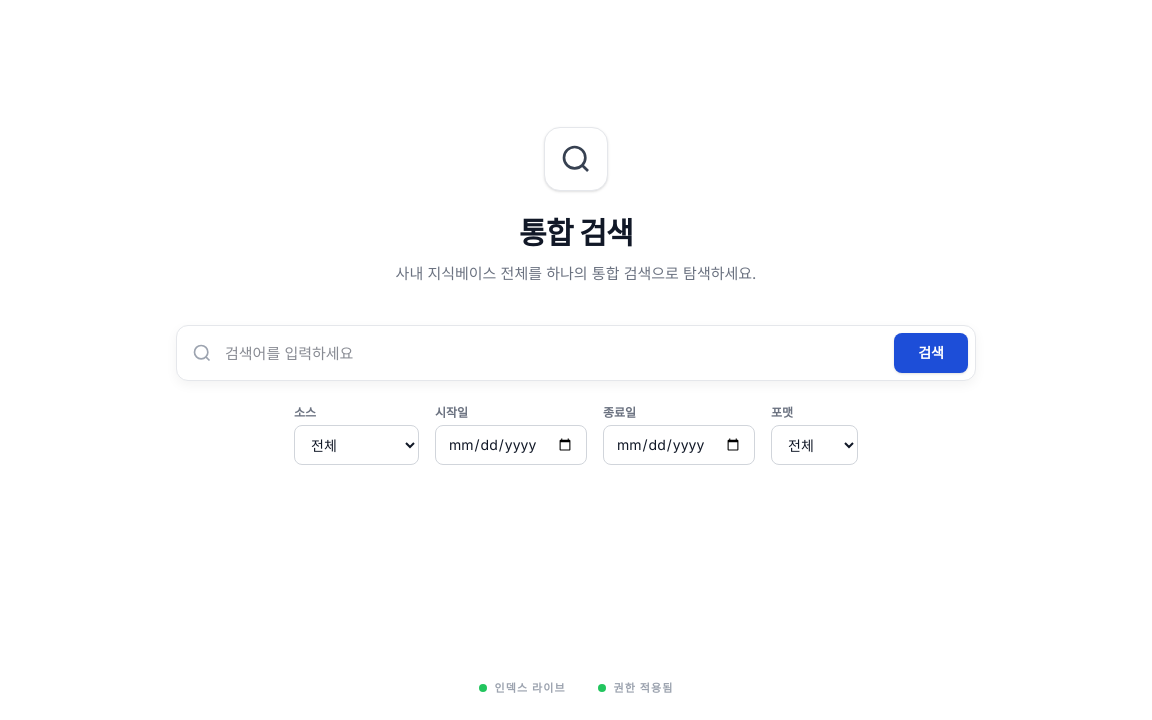
Test: SearchPage › 에러 시 alert로 에러 메시지를 보여준다(토큰 미노출)
Step 1. Type "q" into the search field labelled "검색어" → {"x": 576, "y": 353}, box [176, 325, 976, 381]
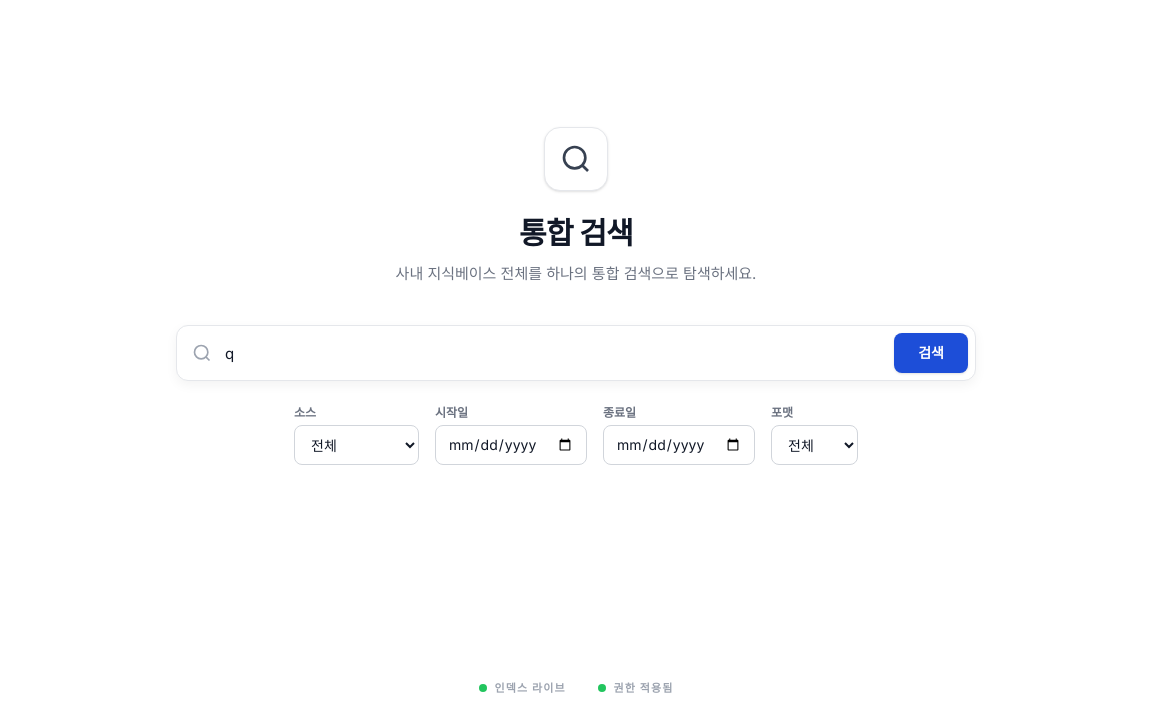
Step 2. Click the button "검색" → {"x": 931, "y": 353}, box [894, 333, 968, 373]
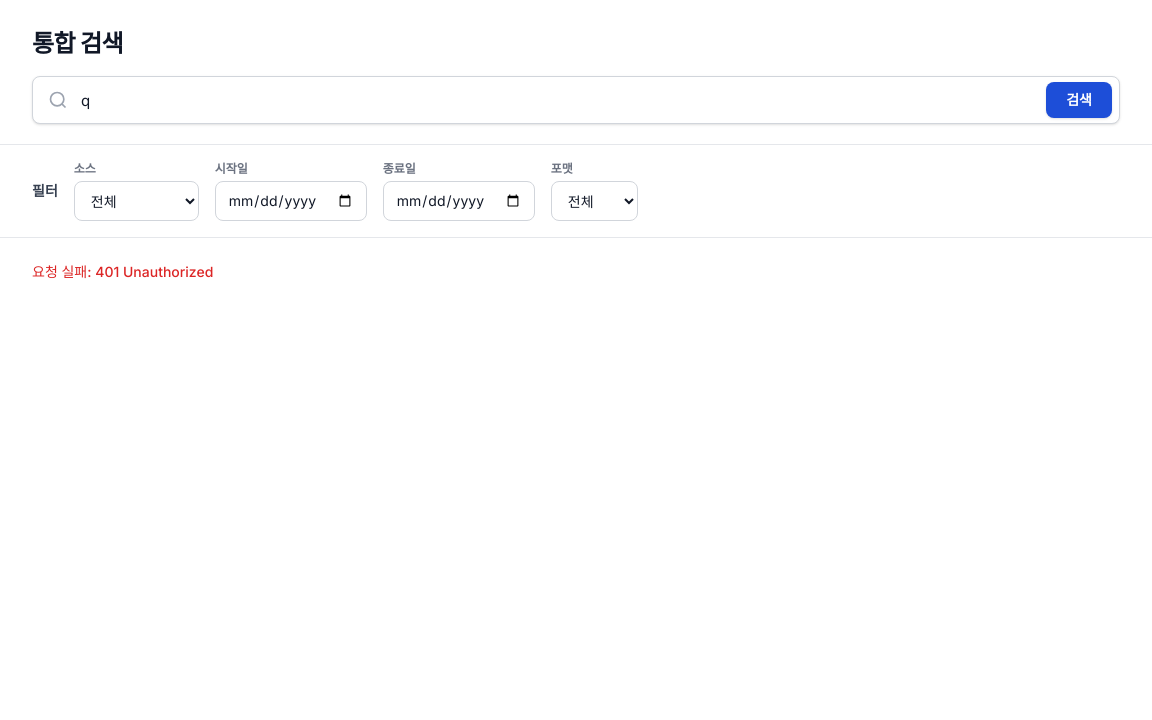
Expected: the message shows "401", [32, 263, 213, 280]
